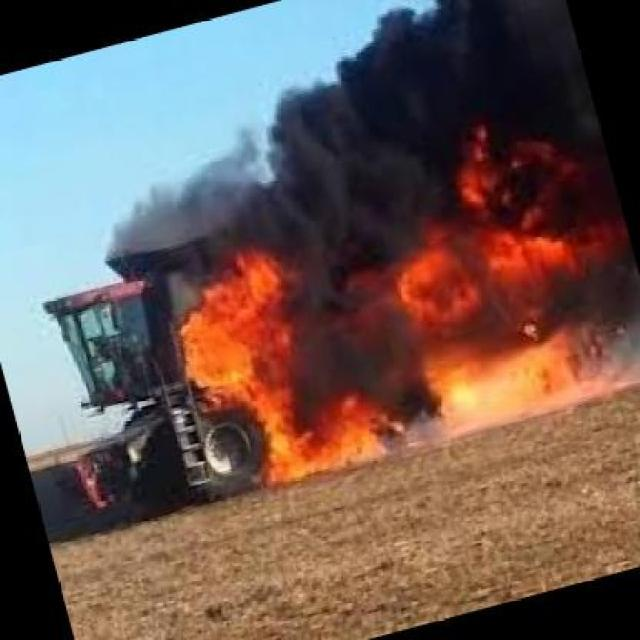Fire: (409, 134, 631, 410), (171, 245, 384, 479)
Smoke: (256, 5, 582, 136), (119, 136, 406, 250), (293, 248, 408, 393)
